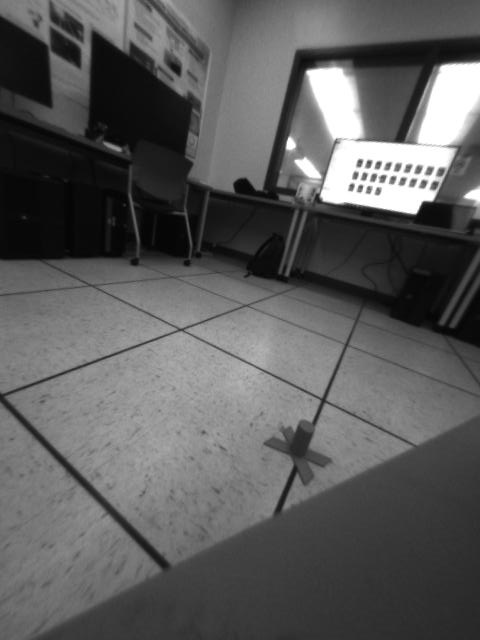X: (262, 417, 332, 485)
